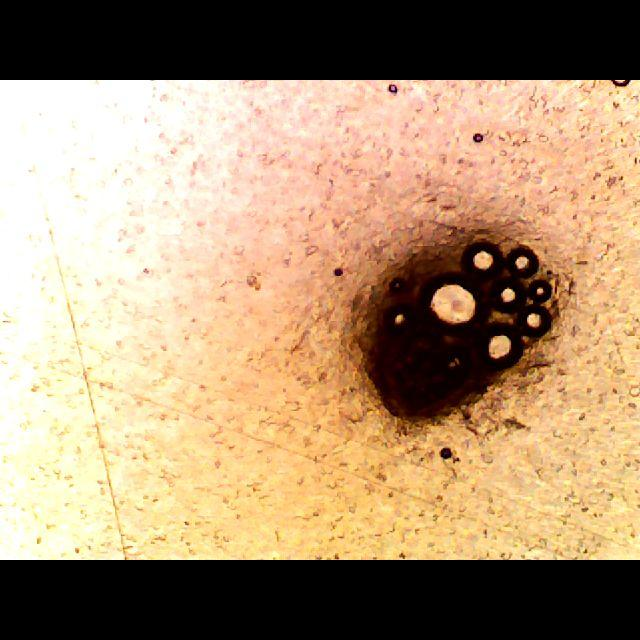microbeads: (422, 274, 482, 332), (476, 324, 524, 376)
